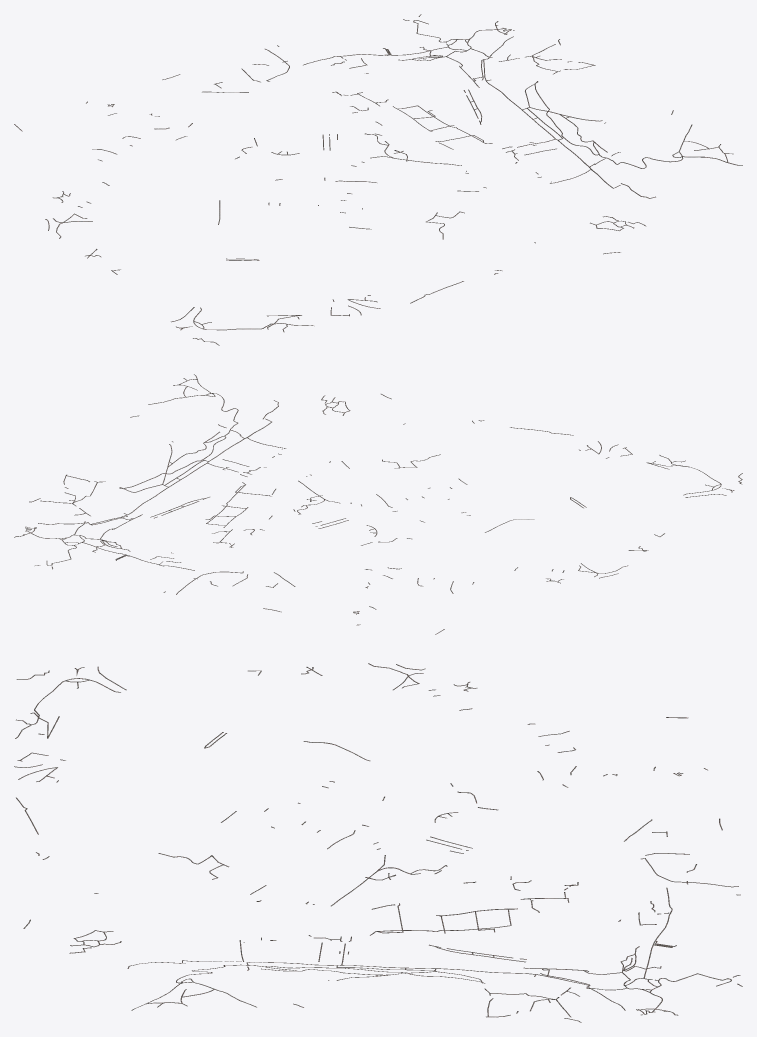
Rendered from map_10.osm_paths_footway.fbx.
The picture shows the model from 3 angles, top to bottom: view 1: azimuth 30°, elevation 25°; view 2: azimuth 150°, elevation 25°; view 3: azimuth 270°, elevation 25°; orthographic projection. The views are drawn at different scales.
Parts seen in each view (by area): view 1: map_10.osm_paths_footway; view 2: map_10.osm_paths_footway; view 3: map_10.osm_paths_footway.
Part boxes in pixels (x1,y1,x2,y2): map_10.osm_paths_footway: (14, 14, 742, 345); map_10.osm_paths_footway: (14, 374, 742, 634); map_10.osm_paths_footway: (14, 663, 742, 1022).
Size of the model in its own units: 142805 by 5087 by 125698.
